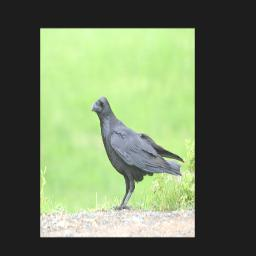Crow: (90, 95, 186, 211)
